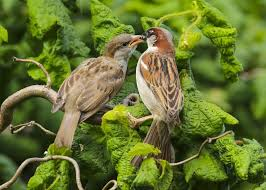hsparrow: (51, 30, 142, 164), (136, 22, 186, 165)
